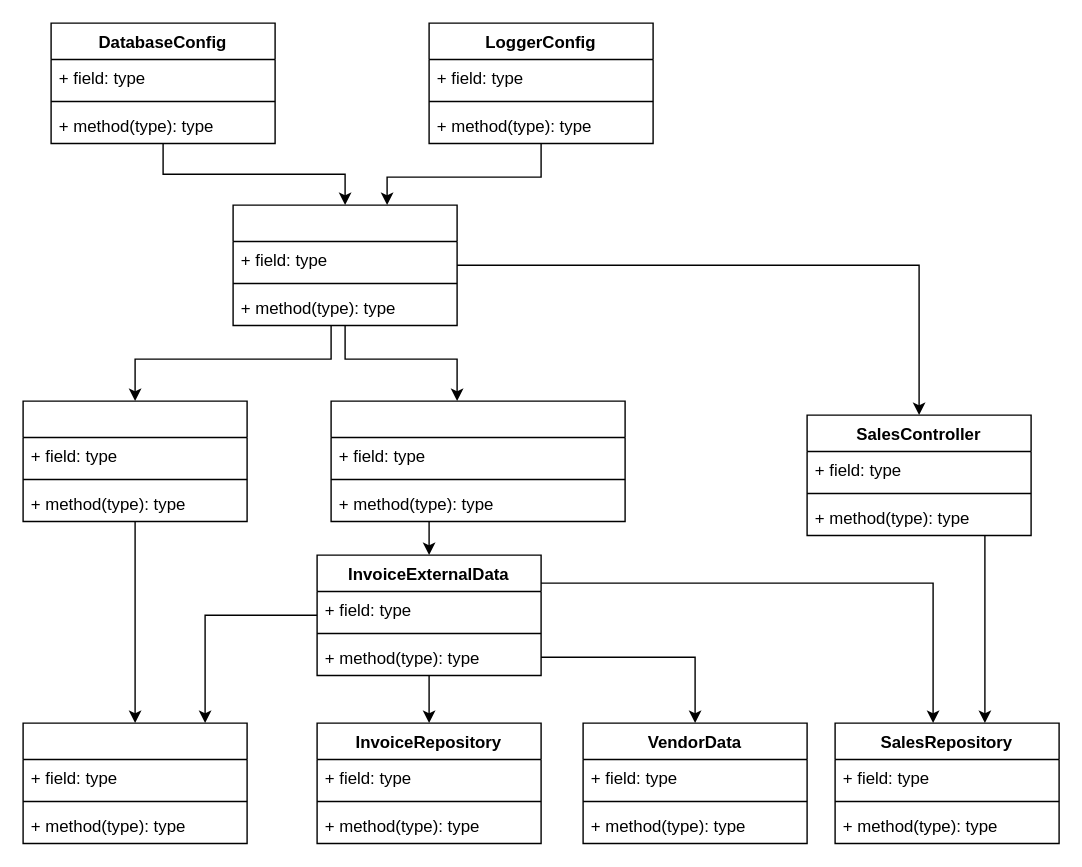
The diagram is 1082 pixels wide and 867 high, and some of its shapes have lost their labels. Here are the shapes that lost their labels. From the top down, the box of each, then its label:
(232, 204, 457, 326): Program
(22, 400, 247, 522): BrandController
(330, 400, 625, 522): InvoicesProcessController
(22, 722, 247, 844): ProductRepository
